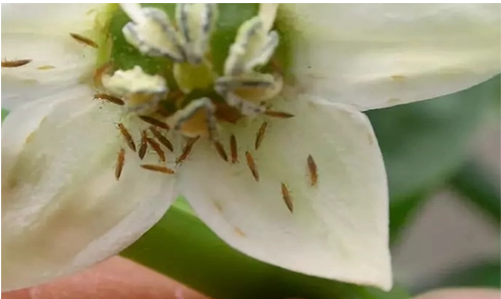thrips: (116, 122, 137, 153), (149, 127, 174, 152), (137, 113, 171, 130), (146, 137, 167, 164), (69, 33, 102, 50), (279, 181, 295, 214), (244, 150, 261, 181), (113, 148, 127, 181), (253, 120, 268, 150), (92, 92, 126, 105), (305, 154, 318, 186), (212, 138, 229, 162), (140, 164, 176, 175), (263, 107, 295, 119), (229, 132, 241, 164), (1, 58, 32, 68), (138, 129, 147, 160)
